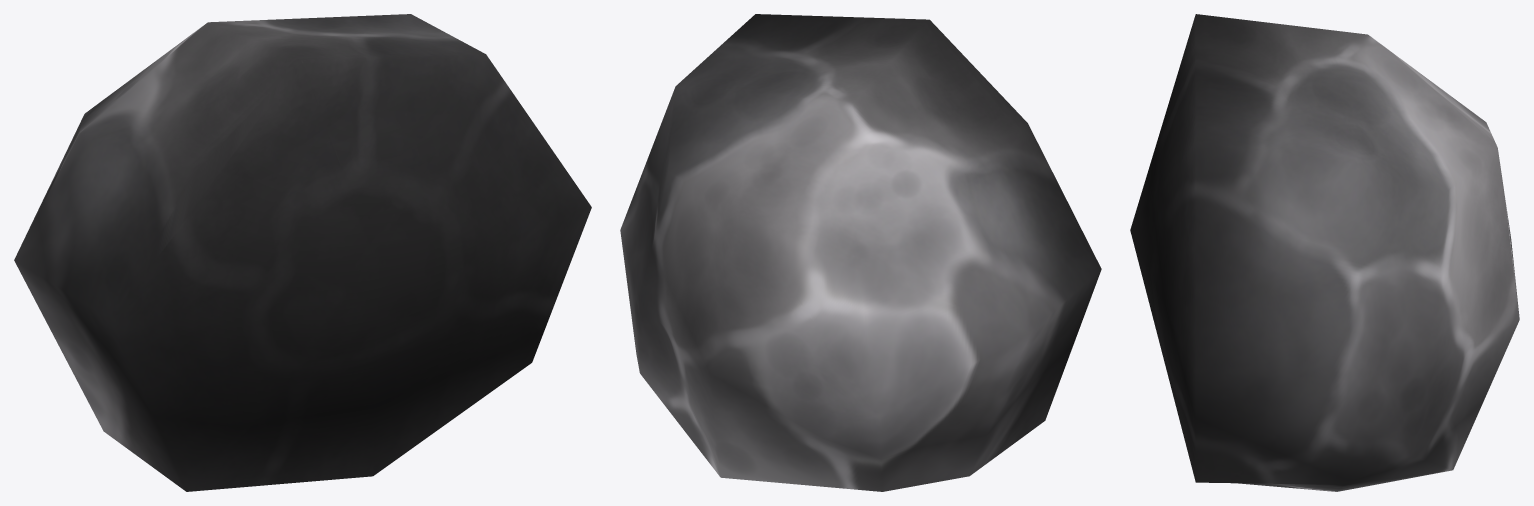
Rendered from Rock_a.fbx.
3 views of the same model, side by side, from view 1: azimuth 30°, elevation 25°; view 2: azimuth 150°, elevation 25°; view 3: azimuth 270°, elevation 25° (orthographic). The views are drawn at different scales.
Parts seen in each view (by area): view 1: Rock_a; view 2: Rock_a; view 3: Rock_a.
Boxes of the visible parts, x1,y1,x2,y2 form: Rock_a: (14,14,591,491); Rock_a: (620,14,1101,491); Rock_a: (1130,14,1519,491).
Size of the model in its own units: 64.23 by 55.35 by 44.71.
